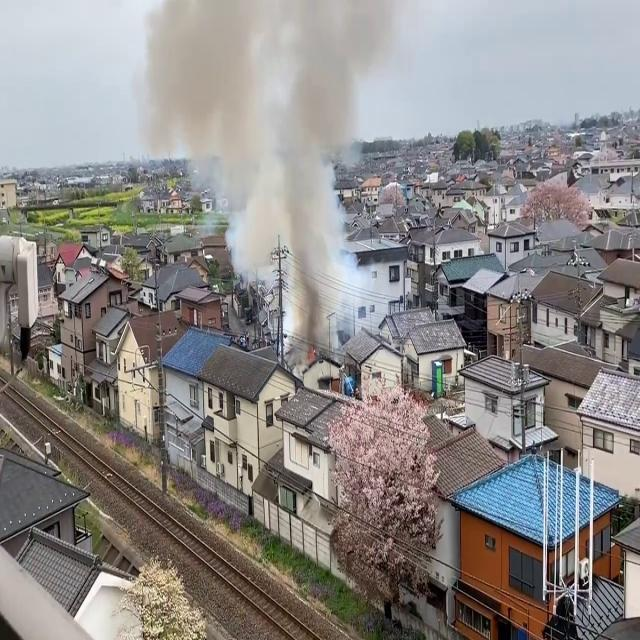Smoke: (160, 0, 368, 355)
